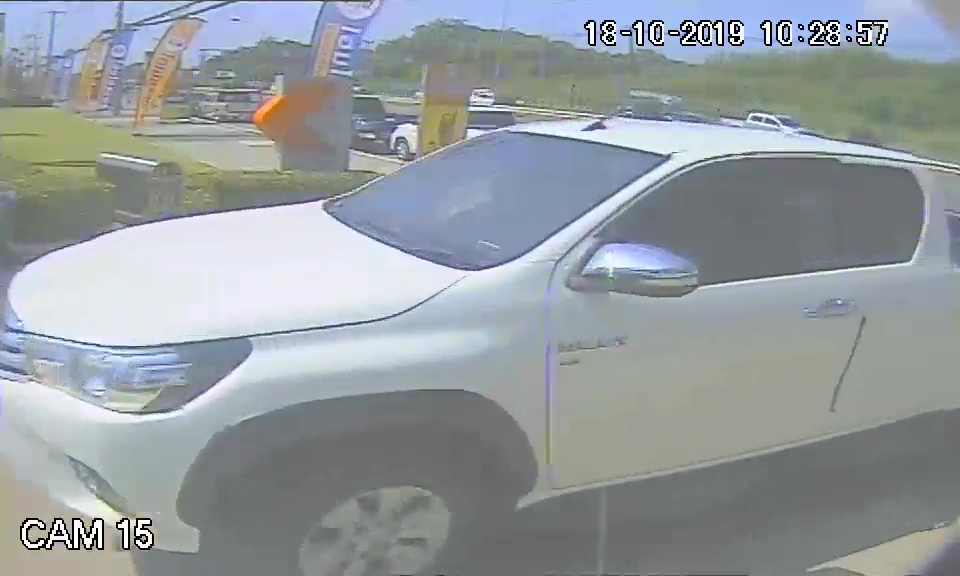pickup: (10, 116, 960, 516)
